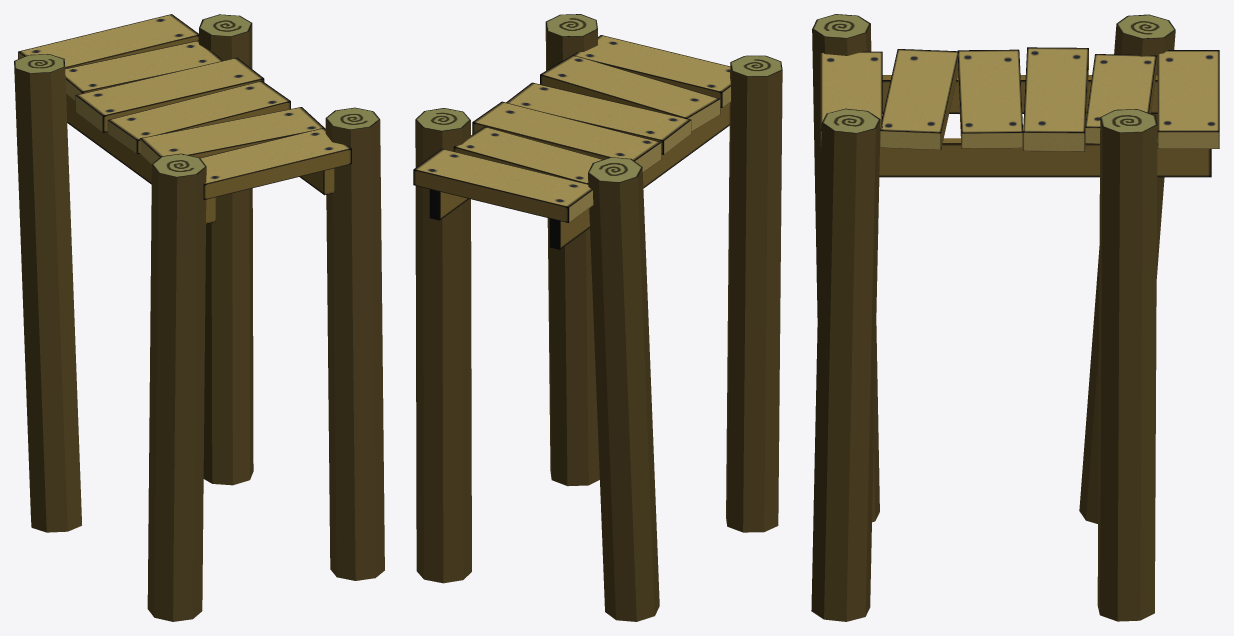
The model's file is dock.glb.
3 renders of one model, left to right at view 1: azimuth 30°, elevation 25°; view 2: azimuth 150°, elevation 25°; view 3: azimuth 270°, elevation 25°, orthographic. The views are drawn at different scales.
Parts seen in each view (by area): view 1: Cylinder.002, Cylinder.001, Cylinder.004, Cylinder.003, Cube.001, Cube.006, Cube.005, Cube.004, Cube.008, Cube.007, Cube.002, Cube.003; view 2: Cylinder.004, Cylinder.002, Cylinder.003, Cylinder.001, Cube.008, Cube.004, Cube.006, Cube.005, Cube.001, Cube.007, Cube.002, Cube.003; view 3: Cylinder.001, Cylinder.003, Cube.003, Cube.006, Cube.004, Cube.005, Cube.008, Cylinder.004, Cylinder.002, Cube.007, Cube.001, Cube.002.
Boxes of the visible parts, x1,y1,x2,y2 form: Cylinder.002: (147, 153, 206, 621); Cylinder.001: (325, 107, 384, 580); Cylinder.004: (14, 54, 81, 532); Cylinder.003: (199, 14, 253, 485); Cube.001: (200, 128, 351, 199); Cube.006: (75, 57, 264, 132); Cube.005: (107, 80, 290, 154); Cube.004: (139, 107, 325, 164); Cube.008: (18, 14, 198, 68); Cube.007: (65, 40, 222, 101); Cube.002: (66, 94, 215, 223); Cube.003: (299, 168, 334, 195); Cylinder.004: (588, 157, 659, 621); Cylinder.002: (726, 55, 782, 532); Cylinder.003: (415, 108, 471, 583); Cylinder.001: (545, 14, 599, 486); Cube.008: (413, 148, 593, 222); Cube.004: (540, 54, 720, 131); Cube.006: (472, 101, 661, 172); Cube.005: (506, 82, 691, 154); Cube.001: (572, 35, 730, 107); Cube.007: (453, 126, 602, 183); Cube.002: (550, 103, 729, 249); Cube.003: (429, 189, 468, 220); Cylinder.001: (811, 108, 880, 621); Cylinder.003: (1097, 109, 1157, 621); Cube.003: (879, 138, 1211, 177); Cube.006: (1023, 47, 1088, 151); Cube.004: (880, 49, 959, 149); Cube.005: (957, 49, 1023, 148); Cube.008: (1157, 50, 1219, 148); Cylinder.004: (1079, 14, 1175, 523); Cylinder.002: (812, 14, 879, 522); Cube.007: (1085, 54, 1156, 143); Cube.001: (820, 51, 882, 146); Cube.002: (882, 75, 1157, 113).
Size of the model in its own units: 3.03 by 5.8 by 4.37.
1 material, 1 textured.
